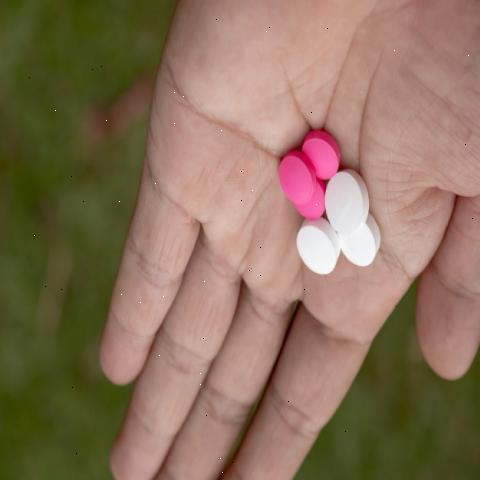Pill: (290, 218, 341, 292), (344, 211, 388, 283), (329, 165, 369, 234)
